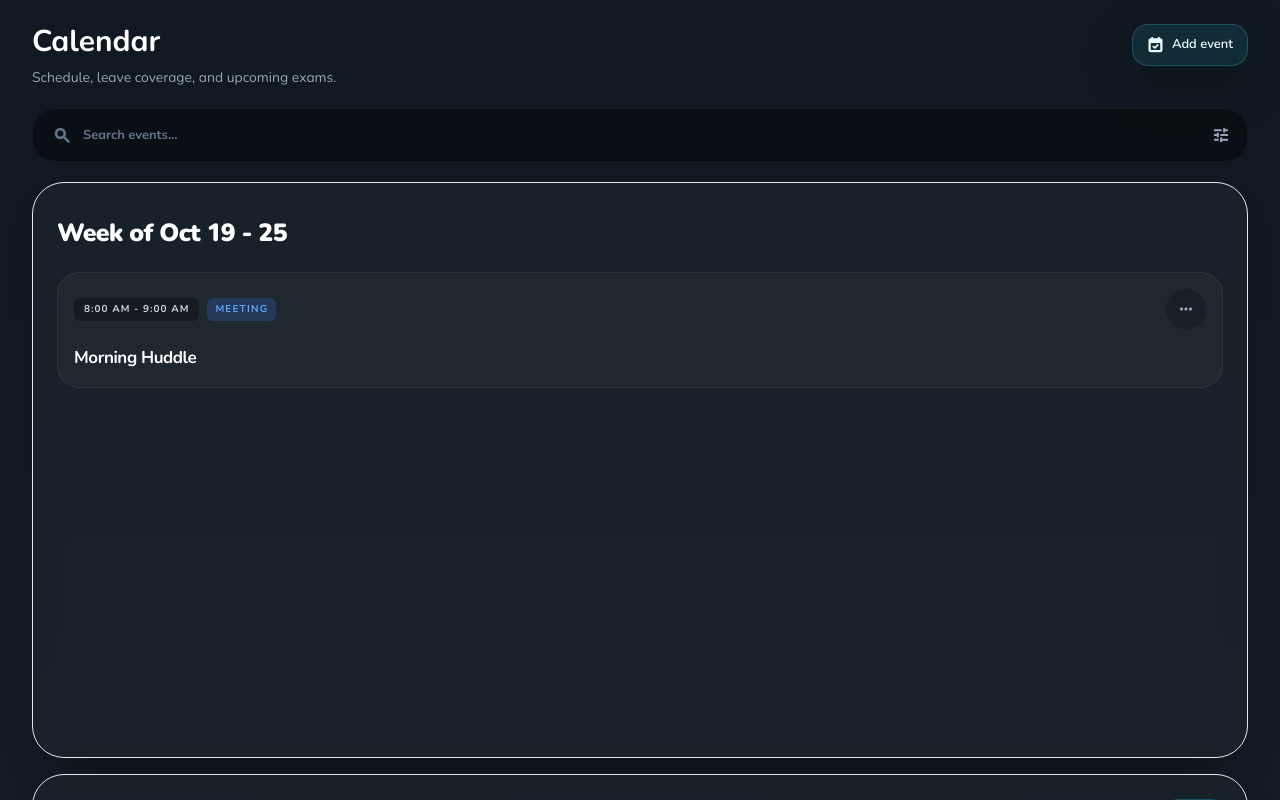
Test: CalendarScreen › blocks save when title is missing
Click the button with aria-label "Create Event": [1190, 45] box top-left (1132, 24), bottom-right (1248, 66)
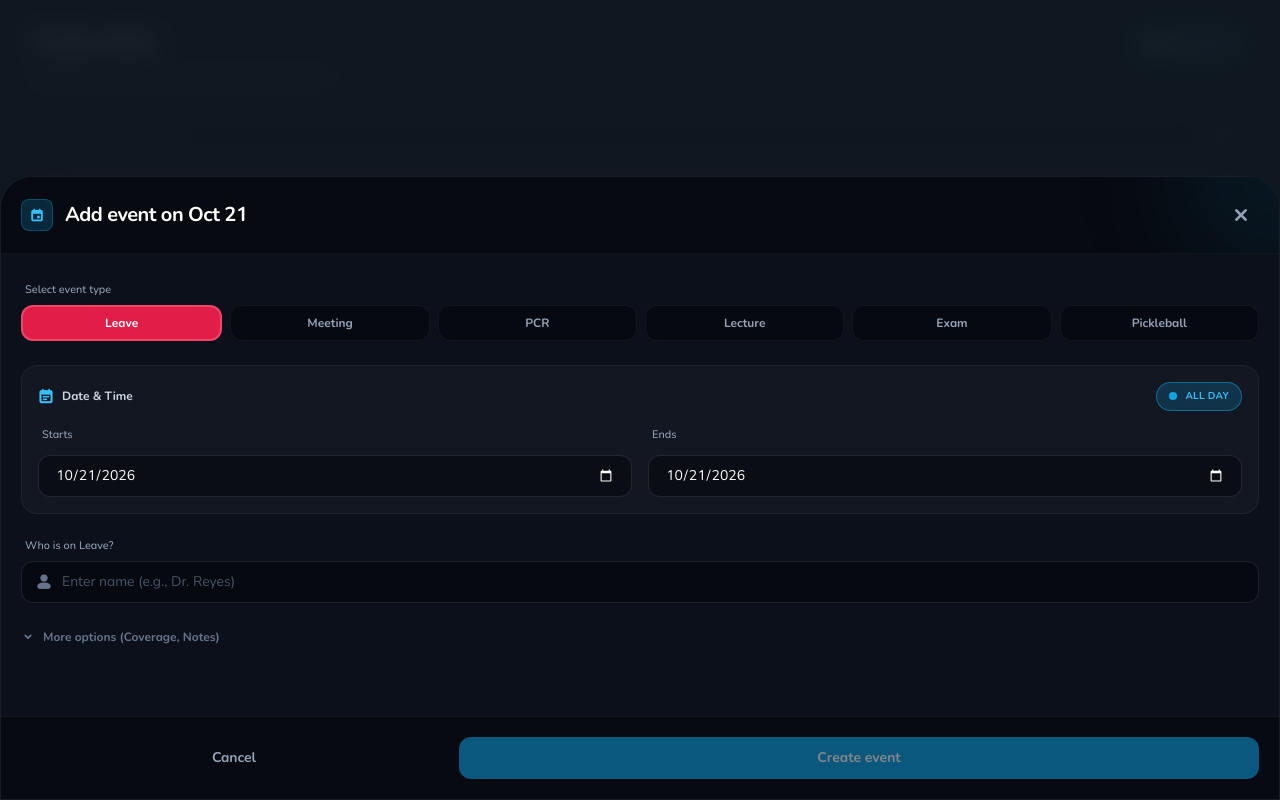
Now the button "Create event" is disabled, box top-left (459, 737), bottom-right (1259, 779)
